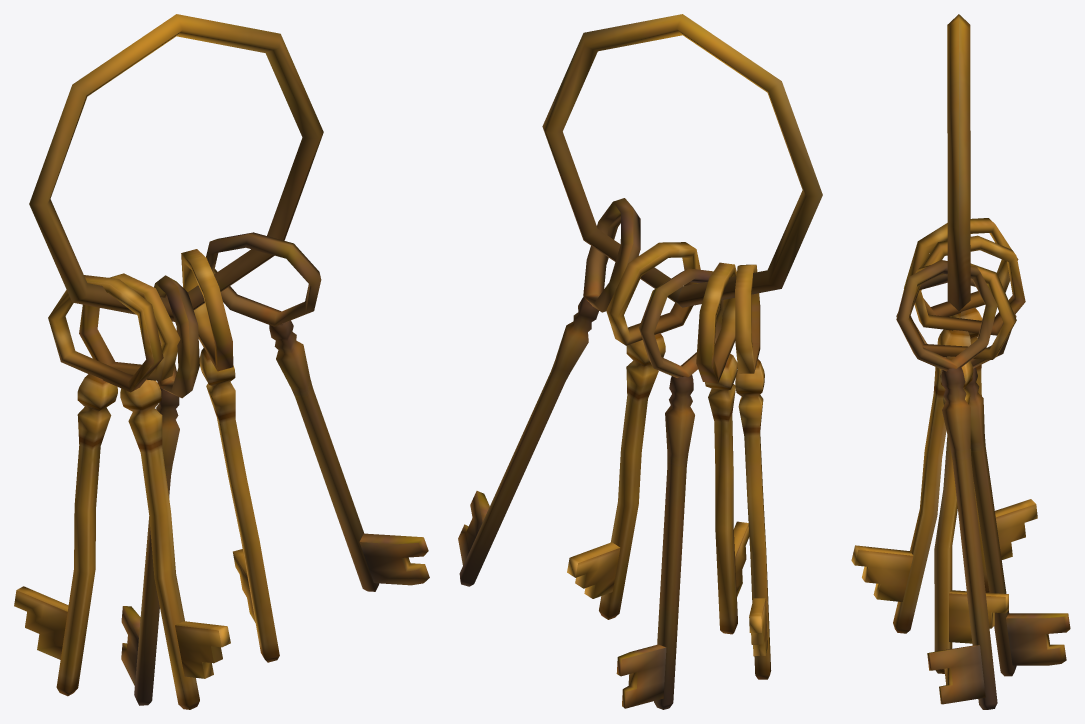
The model's file is key.fbx.
The picture shows the model from 3 angles, left to right: view 1: azimuth 30°, elevation 25°; view 2: azimuth 150°, elevation 25°; view 3: azimuth 270°, elevation 25°; orthographic projection. The views are drawn at different scales.
Visible parts, largest first — view 1: samor_1098_03; view 2: samor_1098_03; view 3: samor_1098_03.
Part boxes in pixels (left/top/right/bottom): samor_1098_03: left=14, top=14, right=429, bottom=709; samor_1098_03: left=458, top=14, right=822, bottom=709; samor_1098_03: left=851, top=14, right=1070, bottom=709.
Bounding box in the file's own units: 13 × 22.43 × 6.76.
1 material, 1 textured.
